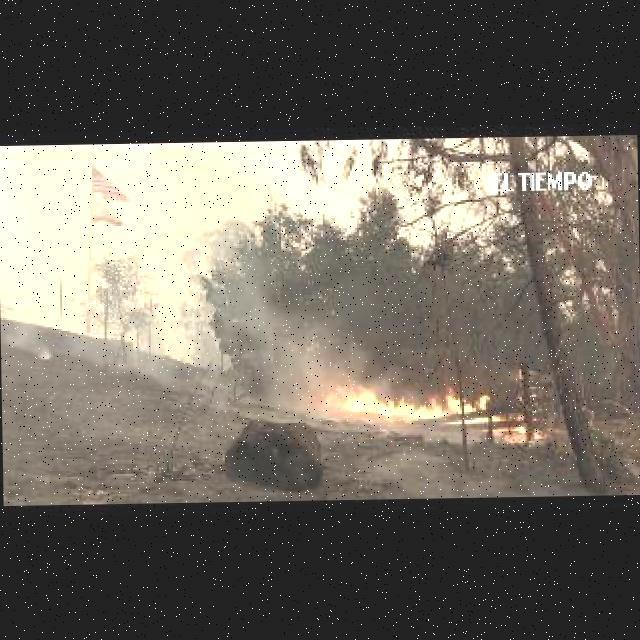Fire: (323, 378, 546, 444)
Smoke: (210, 282, 370, 390)
